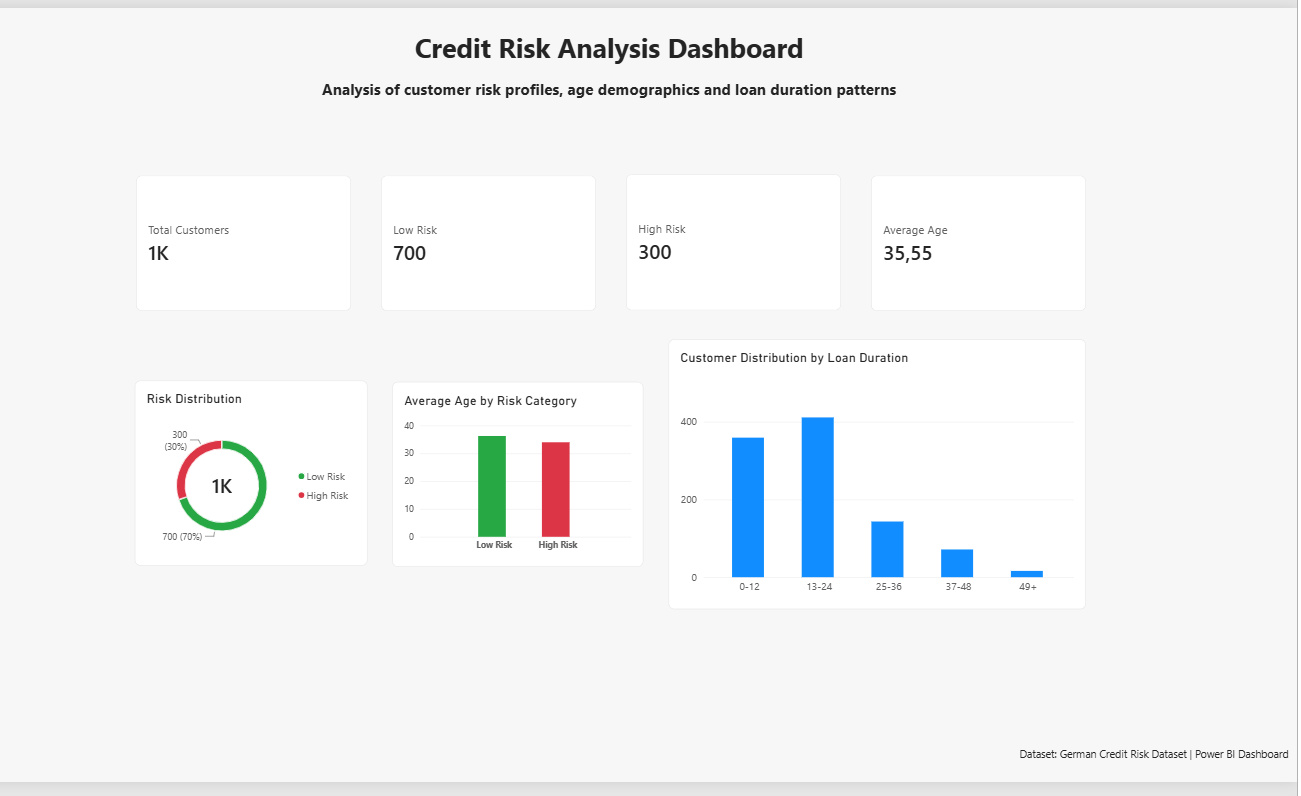

The dashboard page shown, as its layout file describes it:
{"tool":"powerbi","page":{"name":"Page 1","canvas":[1920,1080],"ordinal":0},"visuals":[{"type":"donutChart","title":"Risk Distribution","fields":{"Category":["GermanCredit.Risk Label"],"Y":["CountNonNull(GermanCredit.Risk)"]},"box":[299,520.5,324.4,258.1],"z":0},{"type":"clusteredColumnChart","title":"Average Age by Risk Category","fields":{"Category":["GermanCredit.Risk Label"],"Y":["Avg(GermanCredit.Age)"]},"box":[657.6,521.5,350.6,258.1],"z":1000},{"type":"cardVisual","fields":{"Data":["GermanCredit.Total Customers"]},"box":[299.3,233.7,300.8,189.1],"z":2000},{"type":"cardVisual","fields":{"Data":["GermanCredit.Low Risk"]},"box":[641.6,233.7,300.8,189.1],"z":3000},{"type":"cardVisual","fields":{"Data":["GermanCredit.High Risk"]},"box":[983.8,232.8,300.8,190.9],"z":4000},{"type":"cardVisual","fields":{"Data":["GermanCredit.Average Age"]},"box":[1326,233.7,300.8,189.1],"z":5000},{"type":"clusteredColumnChart","title":"Customer Distribution by Loan Duration","fields":{"Category":["GermanCredit.Duration Band"],"Y":["CountNonNull(GermanCredit.Duration)"]},"box":[1043,462.2,582.6,376.7],"z":6000},{"type":"textbox","box":[0,30,1920.4,150],"z":6001},{"type":"textbox","box":[0,1030.8,1920.4,48.8],"z":6002}]}

Visuals, with their boxes on the page's 1920x1080 design canvas (x1, y1, x2, y2). These are canvas units, not pixel positions in the 1301x796 screenshot, which may show the page scaled, cropped or inside an application window:
"Risk Distribution" donutChart: <bbox>299, 520, 623, 779</bbox>
"Average Age by Risk Category" clusteredColumnChart: <bbox>658, 522, 1008, 780</bbox>
cardVisual - GermanCredit.Total Customers: <bbox>299, 234, 600, 423</bbox>
cardVisual - GermanCredit.Low Risk: <bbox>642, 234, 942, 423</bbox>
cardVisual - GermanCredit.High Risk: <bbox>984, 233, 1285, 424</bbox>
cardVisual - GermanCredit.Average Age: <bbox>1326, 234, 1627, 423</bbox>
"Customer Distribution by Loan Duration" clusteredColumnChart: <bbox>1043, 462, 1626, 839</bbox>
textbox: <bbox>0, 30, 1920, 180</bbox>
textbox: <bbox>0, 1031, 1920, 1080</bbox>
